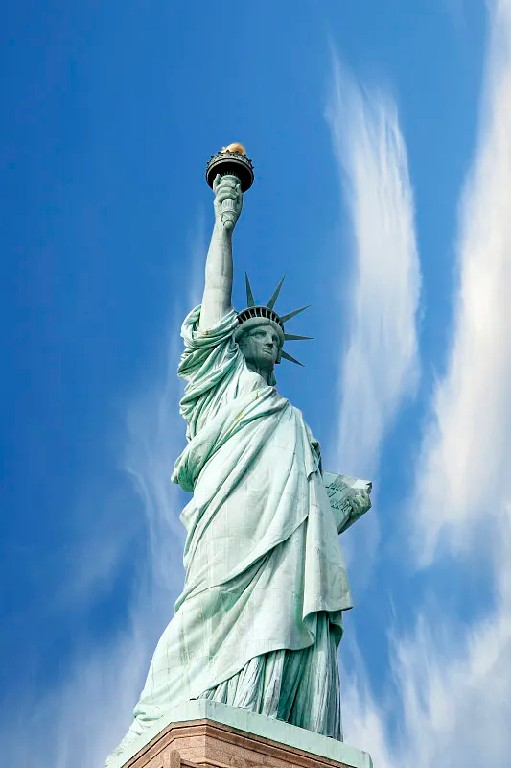SL: (105, 140, 373, 768)
